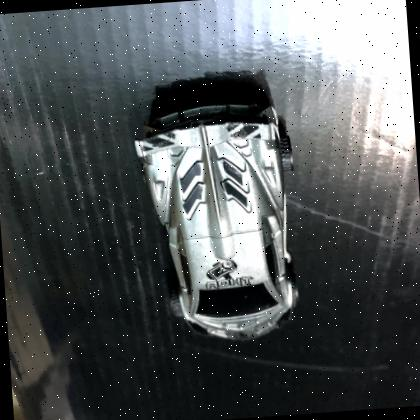Car: (134, 88, 299, 340)
